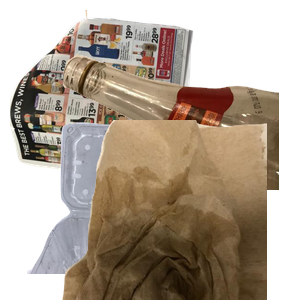glass: (60, 10, 300, 190)
paper: (10, 15, 196, 195)
plastic: (25, 120, 245, 300)
trash: (60, 120, 300, 300)
